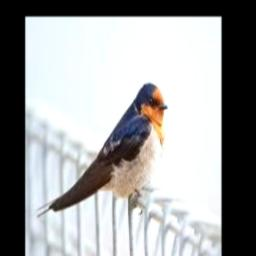Swallow: (36, 83, 168, 218)
